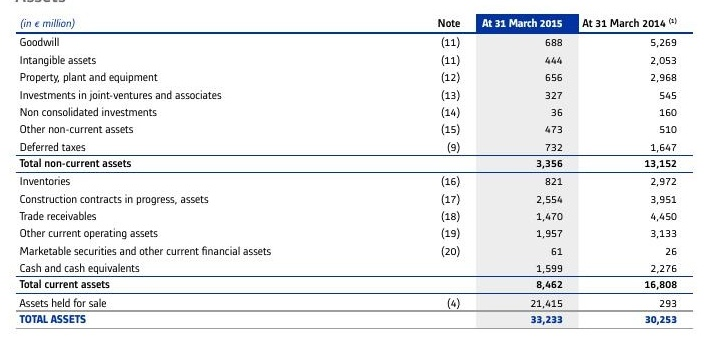table: (0, 0, 708, 344)
